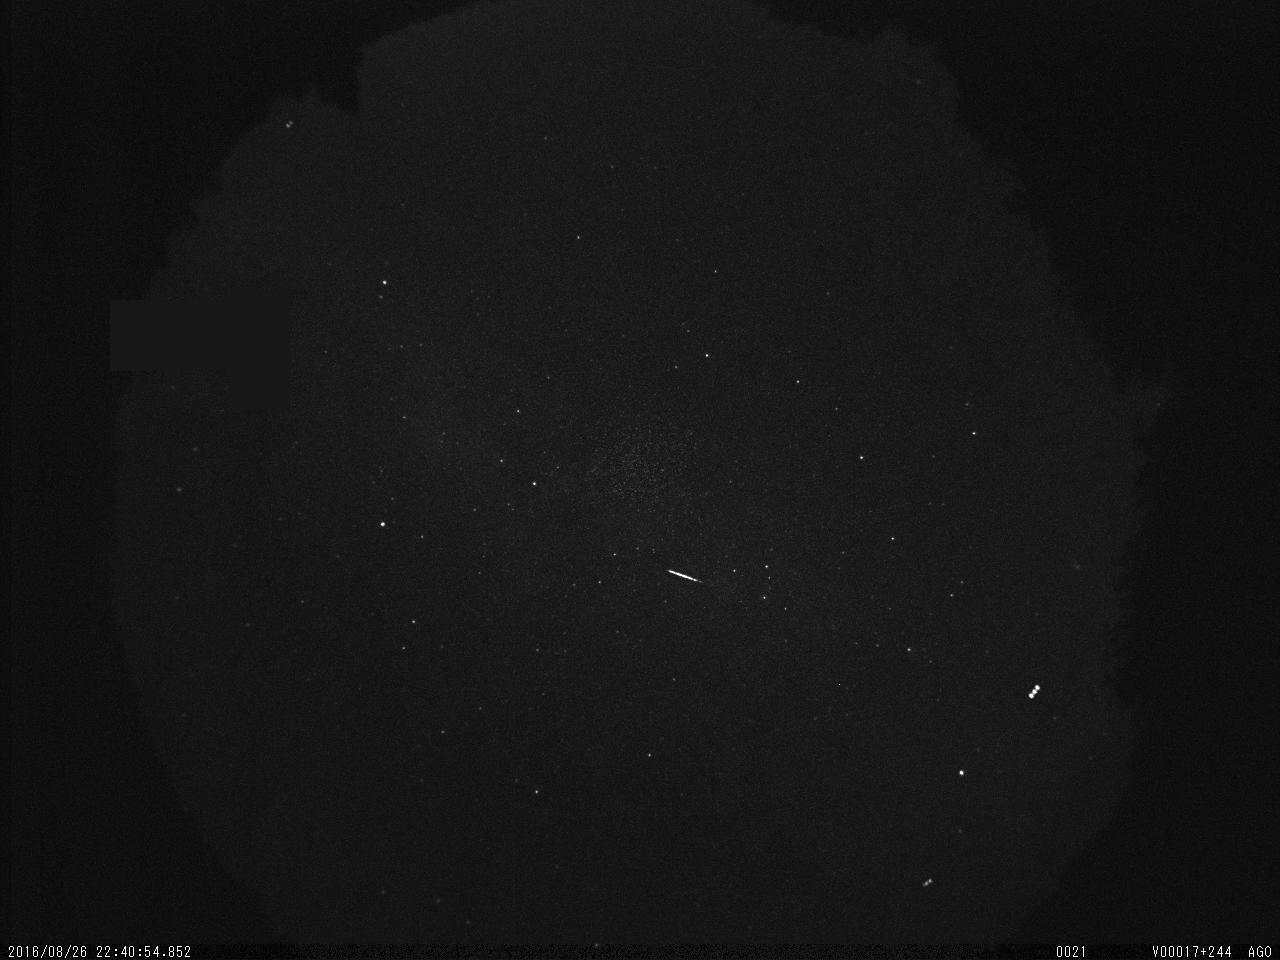meteor: (661, 562, 713, 598)
